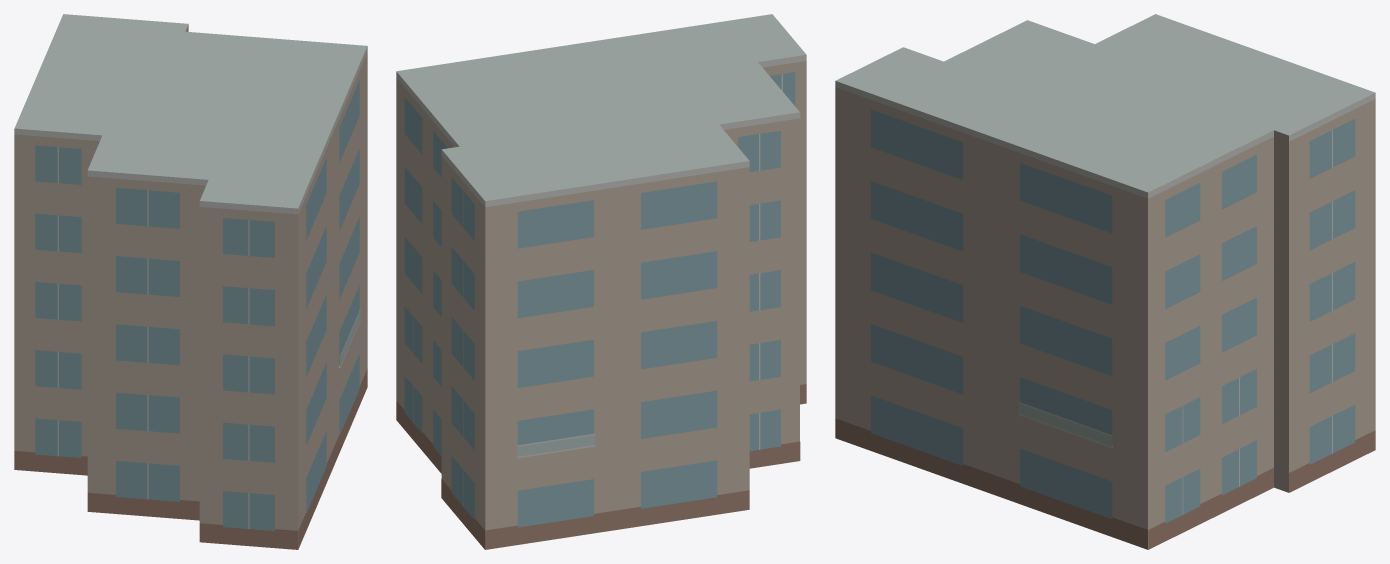
The model's file is survey-upis-32753904.glb.
3 renders of one model, left to right at view 1: azimuth 30°, elevation 25°; view 2: azimuth 150°, elevation 25°; view 3: azimuth 270°, elevation 25°, orthographic. The views are drawn at different scales.
Visible parts, largest first — view 1: survey-upis-32753904.tmp; view 2: survey-upis-32753904.tmp; view 3: survey-upis-32753904.tmp.
Part boxes in pixels (x1=…): survey-upis-32753904.tmp: x1=14, y1=14, x2=367, y2=549; survey-upis-32753904.tmp: x1=396, y1=14, x2=806, y2=549; survey-upis-32753904.tmp: x1=835, y1=14, x2=1375, y2=549.
Size of the model in its own units: 15.01 by 14 by 19.19.
